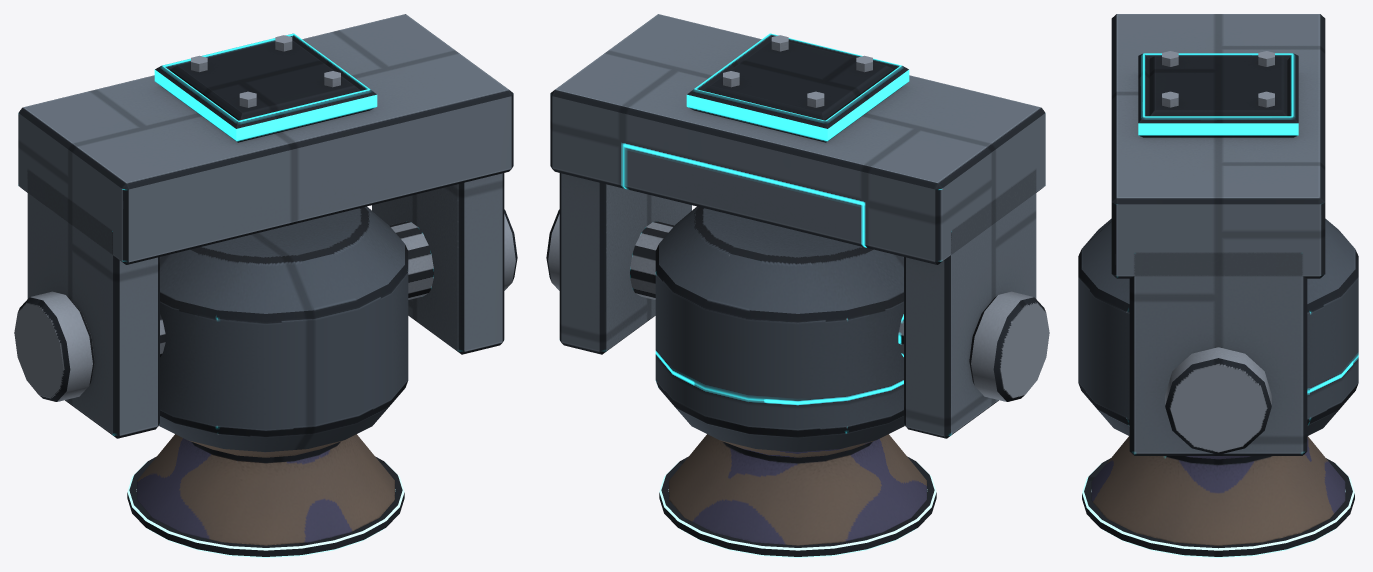
The model's file is motor_vtol_t3.fbx.
3 renders of one model, left to right at view 1: azimuth 30°, elevation 25°; view 2: azimuth 150°, elevation 25°; view 3: azimuth 270°, elevation 25°, orthographic.
Visible parts, largest first — view 1: motor_vtol_t3.001, motor_vtol_t3_tobera, motor_vtol_t3_tobera_neon; view 2: motor_vtol_t3.001, motor_vtol_t3_tobera, motor_vtol_t3_tobera_neon; view 3: motor_vtol_t3.001, motor_vtol_t3_tobera, motor_vtol_t3_tobera_neon.
Boxes of the visible parts, bbox=[...] form: motor_vtol_t3.001: bbox=[14, 14, 517, 438]; motor_vtol_t3_tobera: bbox=[127, 206, 433, 556]; motor_vtol_t3_tobera_neon: bbox=[127, 462, 404, 557]; motor_vtol_t3.001: bbox=[546, 14, 1049, 438]; motor_vtol_t3_tobera: bbox=[630, 206, 936, 556]; motor_vtol_t3_tobera_neon: bbox=[659, 462, 936, 557]; motor_vtol_t3.001: bbox=[1111, 14, 1325, 455]; motor_vtol_t3_tobera: bbox=[1078, 218, 1358, 556]; motor_vtol_t3_tobera_neon: bbox=[1082, 463, 1354, 557].
Size of the model in its own units: 2.9 by 2.64 by 1.58.
